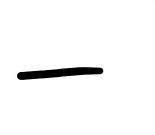minus: (18, 67, 104, 80)
